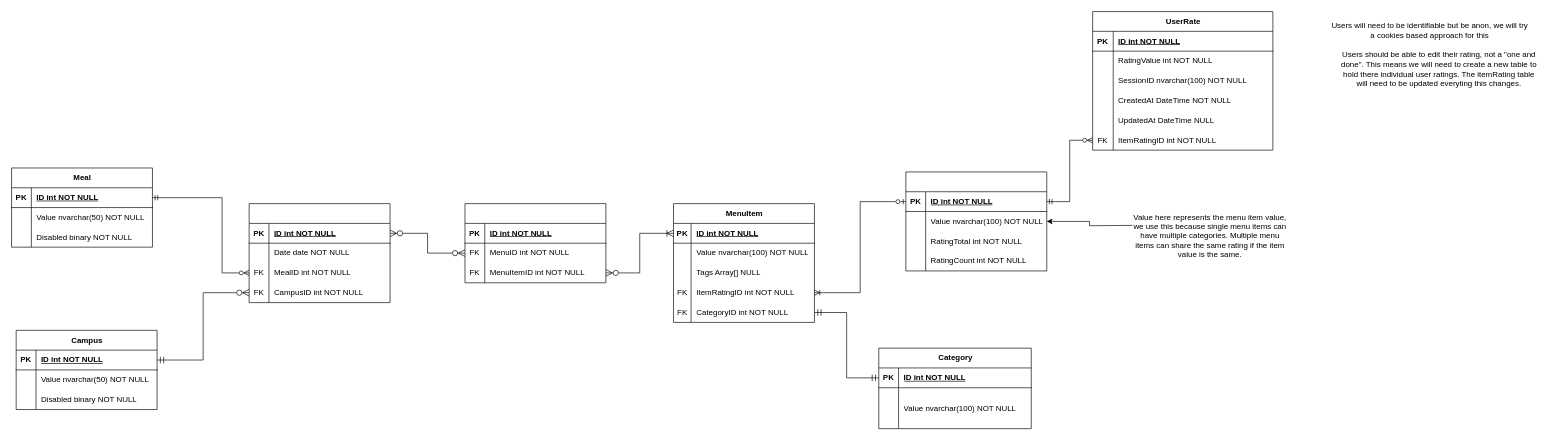
Some shapes in this 1551 by 440 pixel diagram are drawn without their labels. The box of each missing label's shape, as (x1, y1, x2, y2) in pixels:
ItemRating: (905, 171, 1047, 271)
Menu: (248, 203, 390, 303)
MenuMapping: (464, 203, 606, 283)
